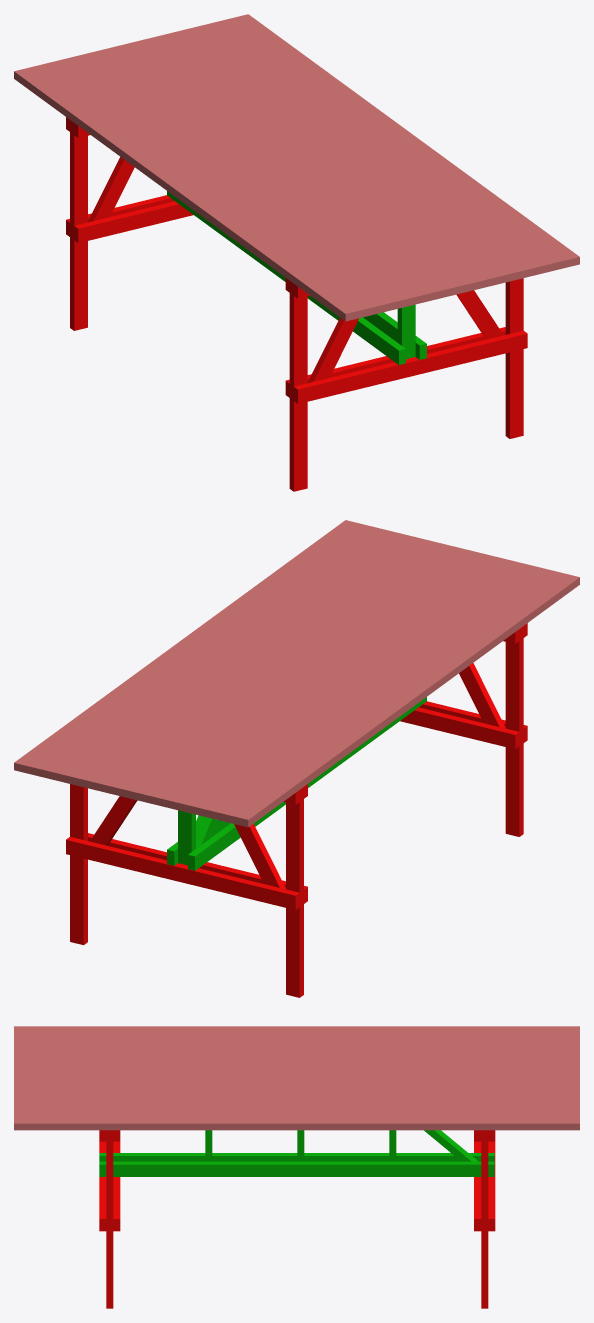
Rendered from result.glb.
3 views of the same model, one above another, from view 1: azimuth 30°, elevation 25°; view 2: azimuth 150°, elevation 25°; view 3: azimuth 270°, elevation 25° (orthographic). The views are drawn at different scales.
Parts seen in each view (by area): view 1: 721477b8-47f9-4ee0-b6bd-bbe843533f1b__Box, b6bde59f-077d-4789-91b9-e5eab52327d7__undefined, 69ed7c1d-b223-49ea-88f7-85ff11d680b6__undefined, 6bfbd820-4ba2-48b7-8281-ef205febfaa3__undefined, 9d98c9cf-2bba-43ed-bd29-717d3f9d493b__undefined, 3877082d-8586-4f4a-abc6-8847dbabf8dd__undefined, f0b393ed-2faa-4e43-b344-95efae9c4739__undefined, 2a7bb92f-8c31-4c61-8e11-09202d24d89c__undefined, 82cbbdb7-dbe7-495d-a3ba-ef24db3a047e__undefined, a524f7d4-1b6a-459b-adab-ff7143af7201__undefined, b75b2a21-481d-43b1-a765-299872aed8c0__undefined, f4161acc-03b4-4576-8f08-0975d554f5a0__undefined (+18 smaller); view 2: 721477b8-47f9-4ee0-b6bd-bbe843533f1b__Box, f0b393ed-2faa-4e43-b344-95efae9c4739__undefined, 2a7bb92f-8c31-4c61-8e11-09202d24d89c__undefined, 69ed7c1d-b223-49ea-88f7-85ff11d680b6__undefined, 3877082d-8586-4f4a-abc6-8847dbabf8dd__undefined, b6bde59f-077d-4789-91b9-e5eab52327d7__undefined, 6bfbd820-4ba2-48b7-8281-ef205febfaa3__undefined, 9d98c9cf-2bba-43ed-bd29-717d3f9d493b__undefined, 3c1224c0-7b96-4742-870a-75400b2eee43__undefined, 5e00d3fa-0f27-4762-ac32-1ed1608b8f45__undefined, 146f886a-fcf6-4317-9622-c2442b73fc57__undefined, 593d24f1-6c01-4e3b-bfde-b1174d46b788__undefined (+17 smaller); view 3: 961aed49-813a-4dd4-8b5e-0041e52f80f8__undefined, a34d1f7f-ed8a-40fa-8b70-c90a1cef025f__strutH, 146f886a-fcf6-4317-9622-c2442b73fc57__undefined, b75b2a21-481d-43b1-a765-299872aed8c0__undefined, 593d24f1-6c01-4e3b-bfde-b1174d46b788__undefined, 3877082d-8586-4f4a-abc6-8847dbabf8dd__undefined, 2a7bb92f-8c31-4c61-8e11-09202d24d89c__undefined, 721477b8-47f9-4ee0-b6bd-bbe843533f1b__Box, 69ed7c1d-b223-49ea-88f7-85ff11d680b6__undefined, b6bde59f-077d-4789-91b9-e5eab52327d7__undefined, f0b393ed-2faa-4e43-b344-95efae9c4739__undefined, f4161acc-03b4-4576-8f08-0975d554f5a0__undefined (+14 smaller).
Part boxes in pixels (x1=…): 721477b8-47f9-4ee0-b6bd-bbe843533f1b__Box: x1=14, y1=68, x2=359, y2=321; b6bde59f-077d-4789-91b9-e5eab52327d7__undefined: x1=69, y1=54, x2=414, y2=307; 69ed7c1d-b223-49ea-88f7-85ff11d680b6__undefined: x1=28, y1=64, x2=373, y2=317; 6bfbd820-4ba2-48b7-8281-ef205febfaa3__undefined: x1=138, y1=37, x2=483, y2=290; 9d98c9cf-2bba-43ed-bd29-717d3f9d493b__undefined: x1=221, y1=17, x2=566, y2=270; 3877082d-8586-4f4a-abc6-8847dbabf8dd__undefined: x1=152, y1=34, x2=497, y2=287; f0b393ed-2faa-4e43-b344-95efae9c4739__undefined: x1=83, y1=51, x2=428, y2=304; 2a7bb92f-8c31-4c61-8e11-09202d24d89c__undefined: x1=207, y1=21, x2=552, y2=274; 82cbbdb7-dbe7-495d-a3ba-ef24db3a047e__undefined: x1=193, y1=24, x2=538, y2=277; a524f7d4-1b6a-459b-adab-ff7143af7201__undefined: x1=180, y1=27, x2=524, y2=280; b75b2a21-481d-43b1-a765-299872aed8c0__undefined: x1=55, y1=58, x2=400, y2=311; f4161acc-03b4-4576-8f08-0975d554f5a0__undefined: x1=111, y1=44, x2=455, y2=297; 721477b8-47f9-4ee0-b6bd-bbe843533f1b__Box: x1=234, y1=574, x2=579, y2=827; f0b393ed-2faa-4e43-b344-95efae9c4739__undefined: x1=165, y1=557, x2=510, y2=810; 2a7bb92f-8c31-4c61-8e11-09202d24d89c__undefined: x1=41, y1=526, x2=386, y2=780; 69ed7c1d-b223-49ea-88f7-85ff11d680b6__undefined: x1=220, y1=570, x2=565, y2=823; 3877082d-8586-4f4a-abc6-8847dbabf8dd__undefined: x1=96, y1=540, x2=441, y2=793; b6bde59f-077d-4789-91b9-e5eab52327d7__undefined: x1=179, y1=560, x2=524, y2=813; 6bfbd820-4ba2-48b7-8281-ef205febfaa3__undefined: x1=110, y1=543, x2=455, y2=796; 9d98c9cf-2bba-43ed-bd29-717d3f9d493b__undefined: x1=27, y1=523, x2=372, y2=776; 3c1224c0-7b96-4742-870a-75400b2eee43__undefined: x1=83, y1=537, x2=427, y2=790; 5e00d3fa-0f27-4762-ac32-1ed1608b8f45__undefined: x1=124, y1=547, x2=469, y2=800; 146f886a-fcf6-4317-9622-c2442b73fc57__undefined: x1=207, y1=567, x2=551, y2=820; 593d24f1-6c01-4e3b-bfde-b1174d46b788__undefined: x1=152, y1=553, x2=496, y2=807; 961aed49-813a-4dd4-8b5e-0041e52f80f8__undefined: x1=14, y1=1118, x2=579, y2=1130; a34d1f7f-ed8a-40fa-8b70-c90a1cef025f__strutH: x1=99, y1=1161, x2=494, y2=1176; 146f886a-fcf6-4317-9622-c2442b73fc57__undefined: x1=14, y1=1037, x2=579, y2=1043; b75b2a21-481d-43b1-a765-299872aed8c0__undefined: x1=14, y1=1043, x2=579, y2=1049; 593d24f1-6c01-4e3b-bfde-b1174d46b788__undefined: x1=14, y1=1060, x2=579, y2=1066; 3877082d-8586-4f4a-abc6-8847dbabf8dd__undefined: x1=14, y1=1083, x2=579, y2=1089; 2a7bb92f-8c31-4c61-8e11-09202d24d89c__undefined: x1=14, y1=1106, x2=579, y2=1112; 721477b8-47f9-4ee0-b6bd-bbe843533f1b__Box: x1=14, y1=1026, x2=579, y2=1031; 69ed7c1d-b223-49ea-88f7-85ff11d680b6__undefined: x1=14, y1=1032, x2=579, y2=1037; b6bde59f-077d-4789-91b9-e5eab52327d7__undefined: x1=14, y1=1049, x2=579, y2=1054; f0b393ed-2faa-4e43-b344-95efae9c4739__undefined: x1=14, y1=1055, x2=579, y2=1060; f4161acc-03b4-4576-8f08-0975d554f5a0__undefined: x1=14, y1=1066, x2=579, y2=1071.
Size of the model in its own units: 816 by 725 by 2000.
